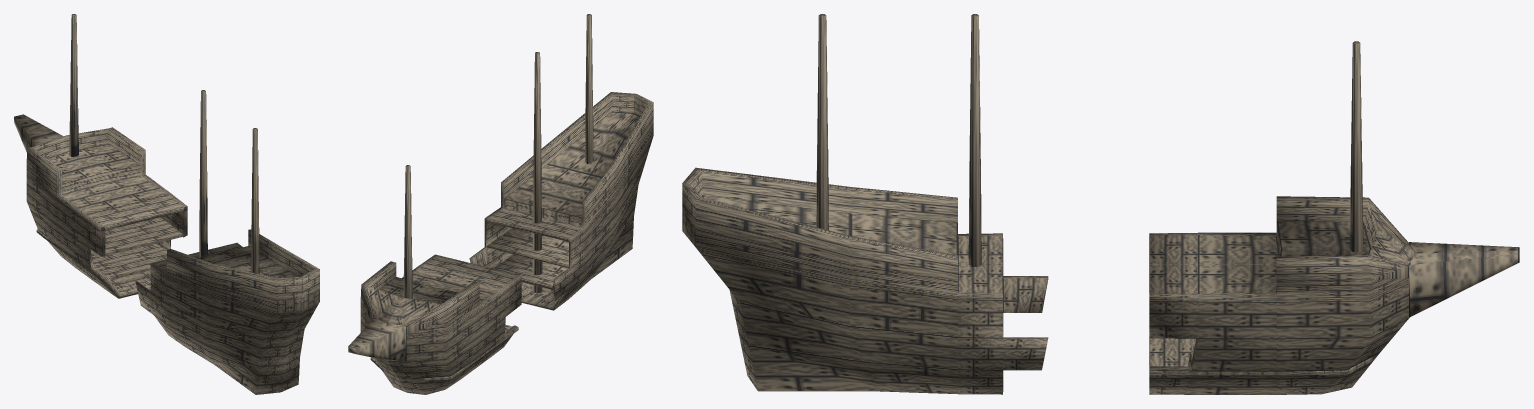
The model's file is Galleon.fbx.
3 views of the same model, side by side, from view 1: azimuth 30°, elevation 25°; view 2: azimuth 150°, elevation 25°; view 3: azimuth 270°, elevation 25° (orthographic). The views are drawn at different scales.
Visible parts, largest first — view 1: Ship Rear, Ship Front; view 2: Ship Rear, Ship Front; view 3: Ship Rear, Ship Front.
Boxes of the visible parts, bbox=[...] form: Ship Rear: bbox=[135, 90, 319, 394]; Ship Front: bbox=[14, 14, 187, 298]; Ship Rear: bbox=[469, 14, 653, 310]; Ship Front: bbox=[348, 165, 521, 394]; Ship Rear: bbox=[682, 14, 1048, 394]; Ship Front: bbox=[1149, 41, 1519, 394].
Size of the model in its own units: 5.52 by 0.9959 by 2.62.
